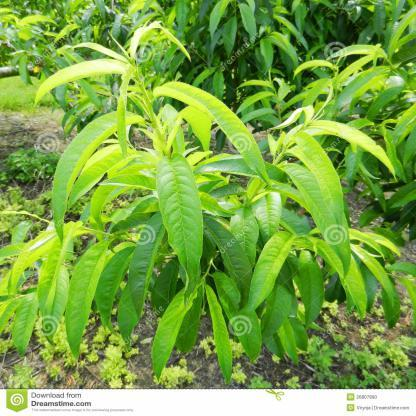Peach leaf: (152, 79, 270, 187), (52, 110, 147, 242), (64, 236, 125, 366), (153, 147, 202, 304), (283, 164, 351, 274), (146, 280, 204, 390), (211, 269, 262, 362), (292, 130, 341, 226), (246, 230, 297, 316), (202, 218, 254, 302), (130, 209, 169, 319), (203, 274, 234, 388), (295, 249, 326, 334), (9, 292, 42, 364), (198, 158, 289, 182)
